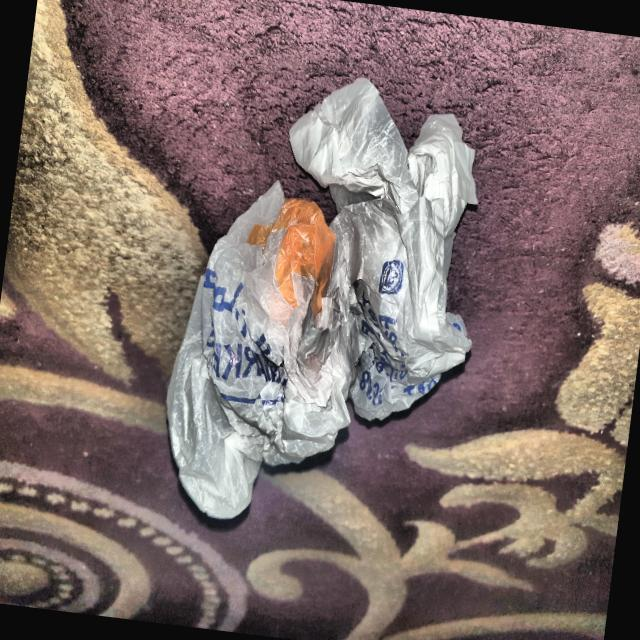plastic bag: (150, 58, 508, 549)
